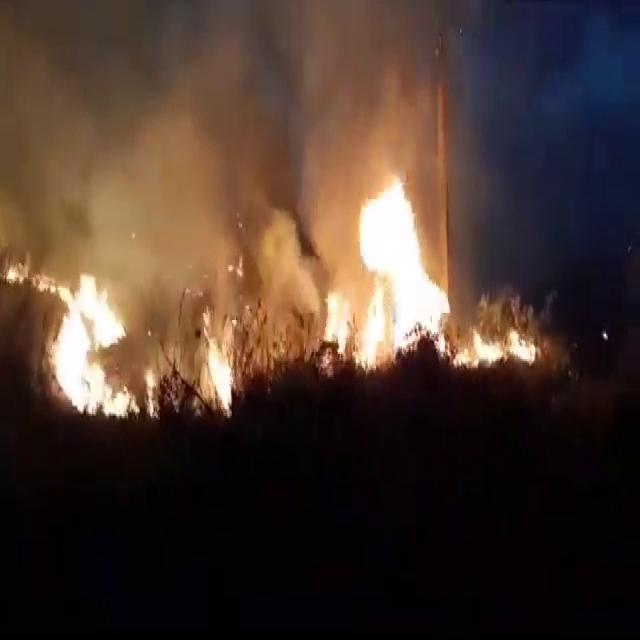Fire: (326, 180, 446, 362), (37, 274, 141, 418), (452, 324, 535, 366), (198, 338, 234, 410)
Smoke: (8, 18, 431, 338)
